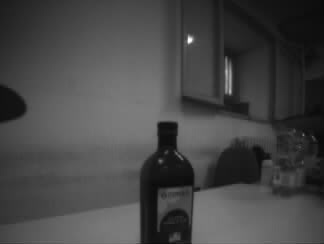Bottle: (139, 121, 194, 244), (271, 124, 296, 198)
